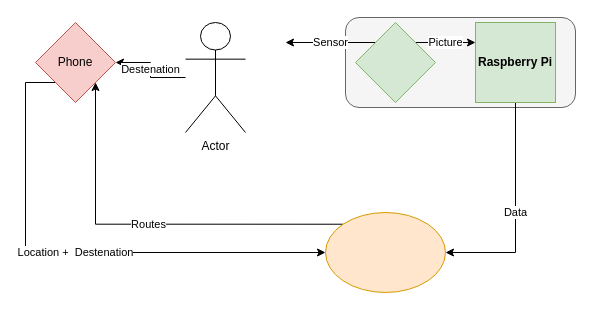
This 593x310 diagram has some shape labels left out. Here are the shapes that lost their labels. From the top down, the box of each, then its label:
(354, 22, 436, 102): Camera
(324, 212, 446, 292): Server
